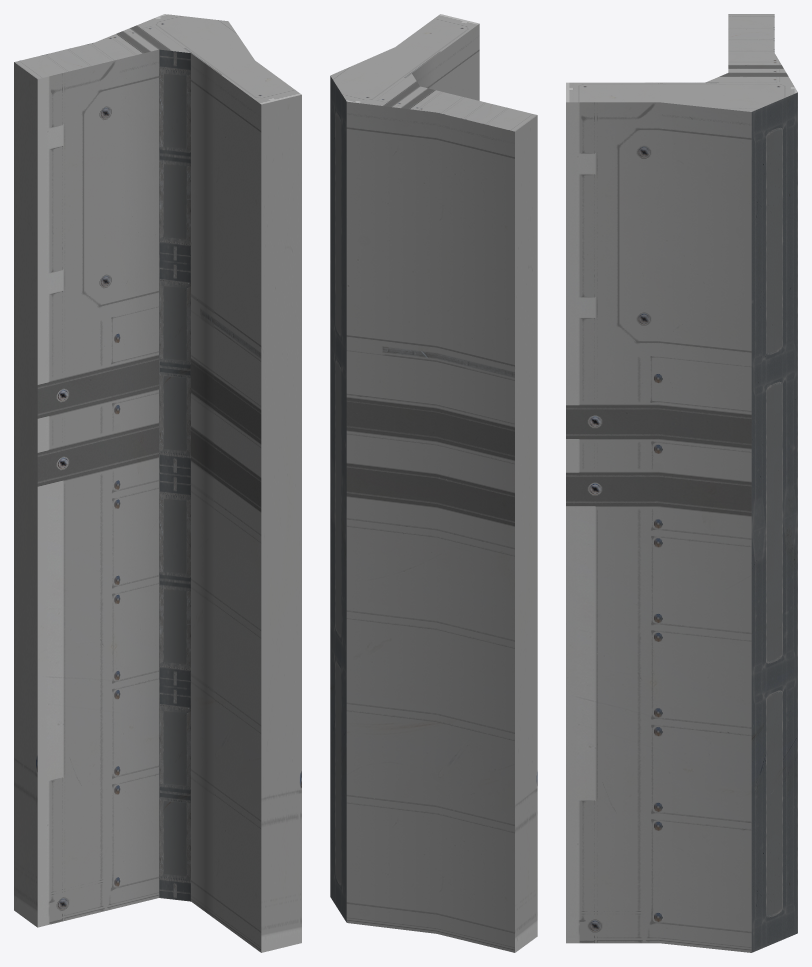
Rendered from SM_Walls_CURVED13.fbx.
3 views of the same model, side by side, from view 1: azimuth 30°, elevation 25°; view 2: azimuth 150°, elevation 25°; view 3: azimuth 270°, elevation 25° (orthographic). The views are drawn at different scales.
Parts seen in each view (by area): view 1: SM_Walls_CURVED13_LOD0; view 2: SM_Walls_CURVED13_LOD0; view 3: SM_Walls_CURVED13_LOD0.
Boxes of the visible parts, x1,y1,x2,y2 form: SM_Walls_CURVED13_LOD0: (14, 14, 301, 952); SM_Walls_CURVED13_LOD0: (330, 14, 537, 952); SM_Walls_CURVED13_LOD0: (566, 14, 797, 952).
Size of the model in its own units: 100 by 100 by 400.
2 materials, 2 textured.
